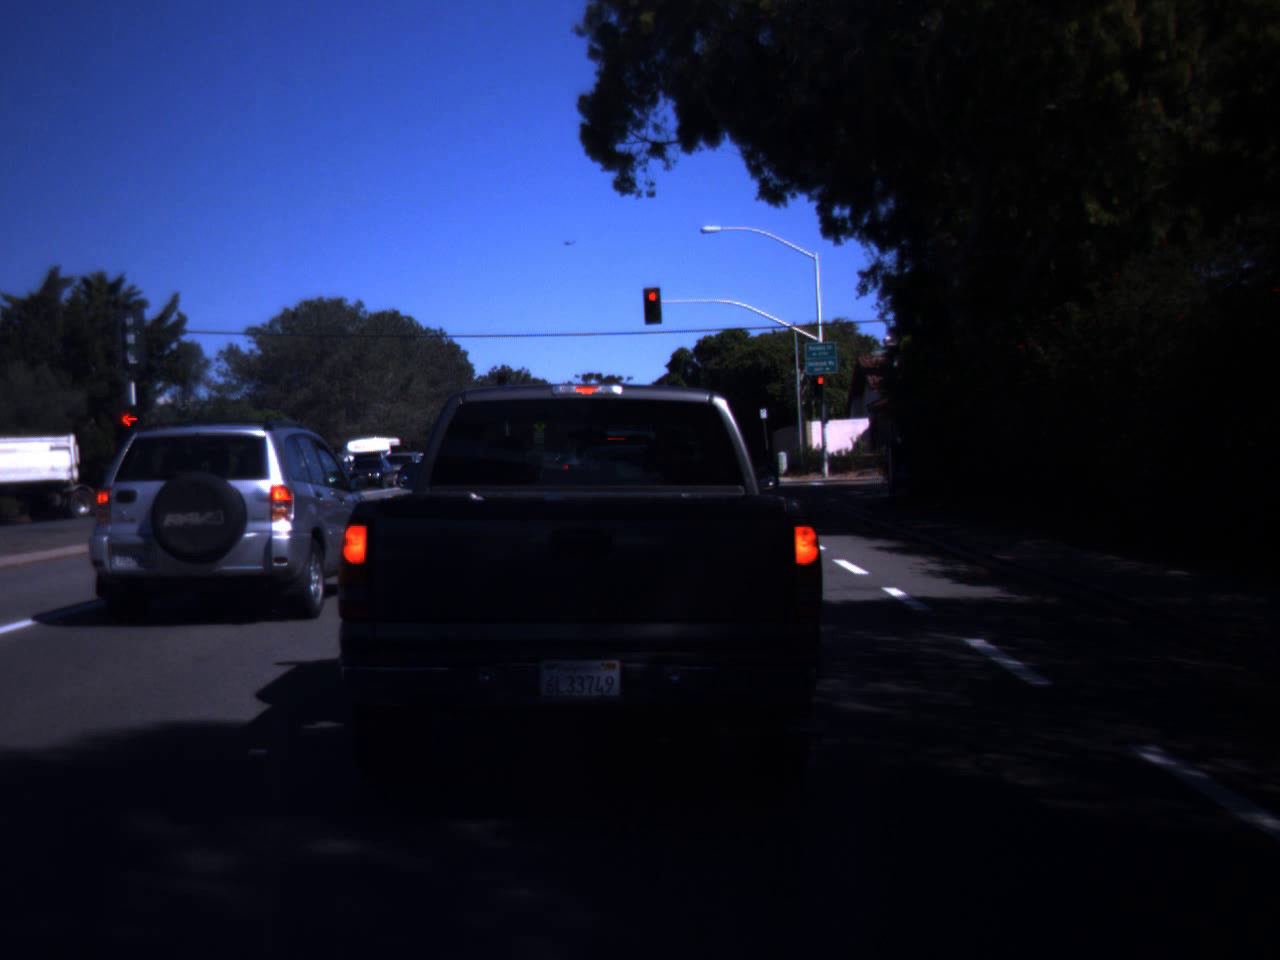stop: (103, 404, 154, 471), (644, 290, 662, 312), (814, 376, 826, 394)
